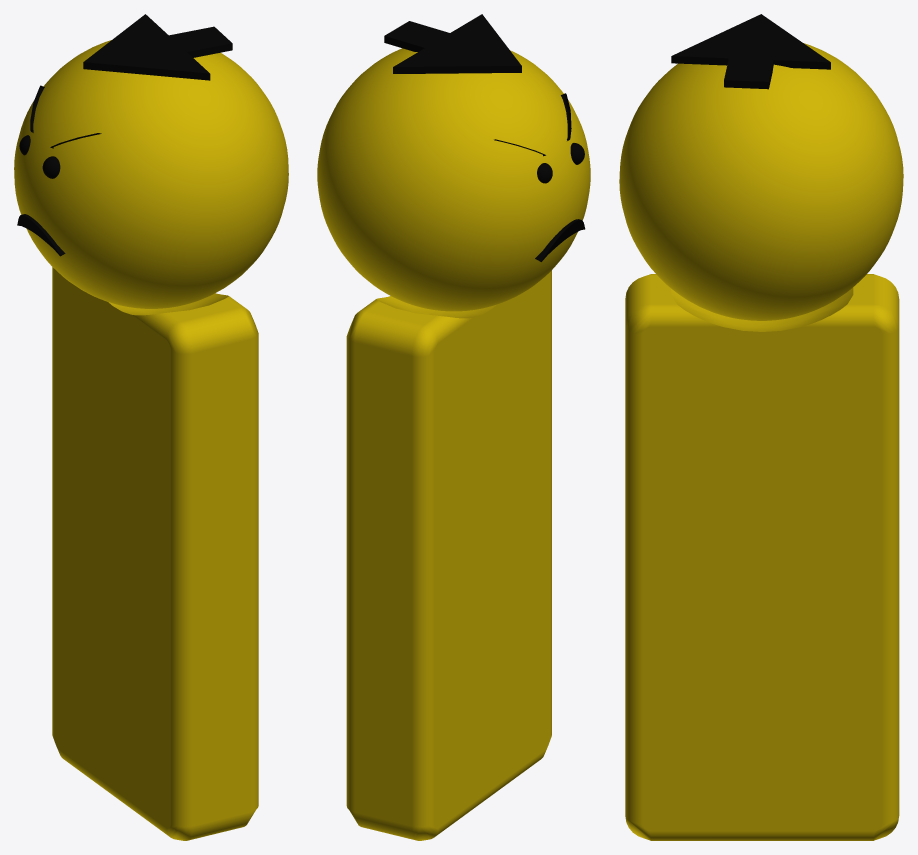
Rendered from yellow_angry.obj.
The picture shows the model from 3 angles, left to right: view 1: azimuth 30°, elevation 25°; view 2: azimuth 150°, elevation 25°; view 3: azimuth 270°, elevation 25°; orthographic projection. The views are drawn at different scales.
Parts seen in each view (by area): view 1: 1_Curve.002_Curve.003, 5.002_Curve.002_Curve.003_5.002_Curve.002_Curve.003; view 2: 1_Curve.002_Curve.003, 5.002_Curve.002_Curve.003_5.002_Curve.002_Curve.003; view 3: 1_Curve.002_Curve.003, 5.002_Curve.002_Curve.003_5.002_Curve.002_Curve.003.
Part boxes in pixels (x1,y1,x2,y2): 1_Curve.002_Curve.003: (14,40,288,840); 5.002_Curve.002_Curve.003_5.002_Curve.002_Curve.003: (17,14,232,256); 1_Curve.002_Curve.003: (317,48,590,840); 5.002_Curve.002_Curve.003_5.002_Curve.002_Curve.003: (384,14,585,261); 1_Curve.002_Curve.003: (619,43,903,840); 5.002_Curve.002_Curve.003_5.002_Curve.002_Curve.003: (671,14,830,89).
Bounding box in the file's own units: 0.1677 × 0.4993 × 0.1661.
